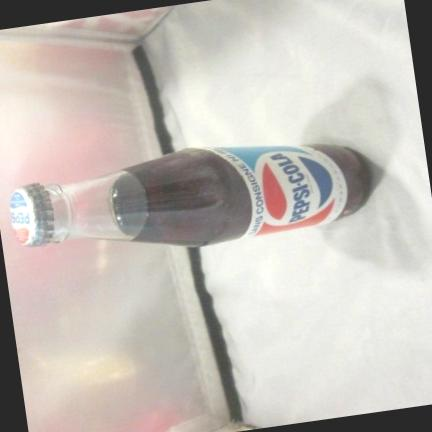container: (36, 143, 367, 246)
fluid: (123, 143, 369, 244)
fluid-surface: (110, 169, 148, 237)
